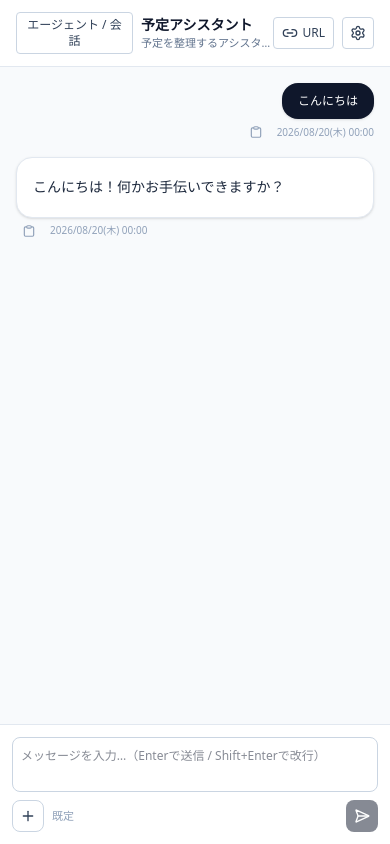
it: AgentsPage › closes the mobile sidebar drawer when the close button is pressed
The width and height of the screenshot is (390, 844).
Expected: the text "こんにちは！何かお手伝いできますか？" is shown, [33, 177, 285, 196]
Click the button with aria-label "エージェントと会話を選択".
click(74, 33)  # box [16, 12, 133, 54]
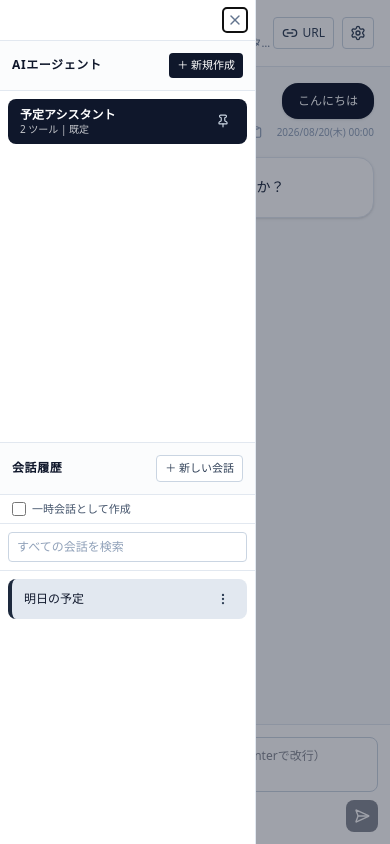
Expected: the button named "サイドバーを閉じる" is shown
Click the button named "サイドバーを閉じる".
click(235, 20)  # box [223, 8, 247, 32]
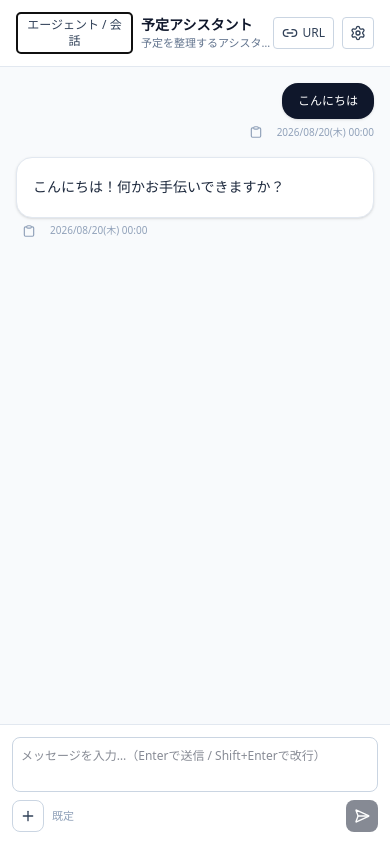
Expected: the button "サイドバーを閉じる" is gone
